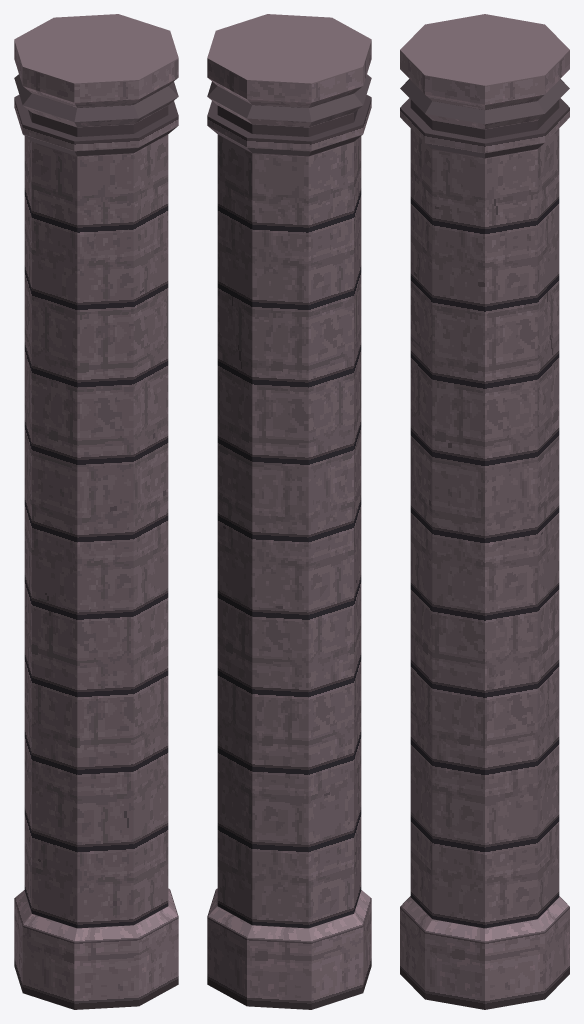
The model's file is saeule_8_b.glb.
The picture shows the model from 3 angles, left to right: view 1: azimuth 30°, elevation 25°; view 2: azimuth 150°, elevation 25°; view 3: azimuth 270°, elevation 25°; orthographic projection.
Parts seen in each view (by area): view 1: saeule_8; view 2: saeule_8; view 3: saeule_8.
Part boxes in pixels (x1,y1,x2,y2): saeule_8: (14, 14, 178, 1009); saeule_8: (207, 14, 371, 1009); saeule_8: (400, 14, 569, 1009).
Bounding box in the file's own units: 1 × 6 × 1.
Materials: 1 (1 with a texture image).
